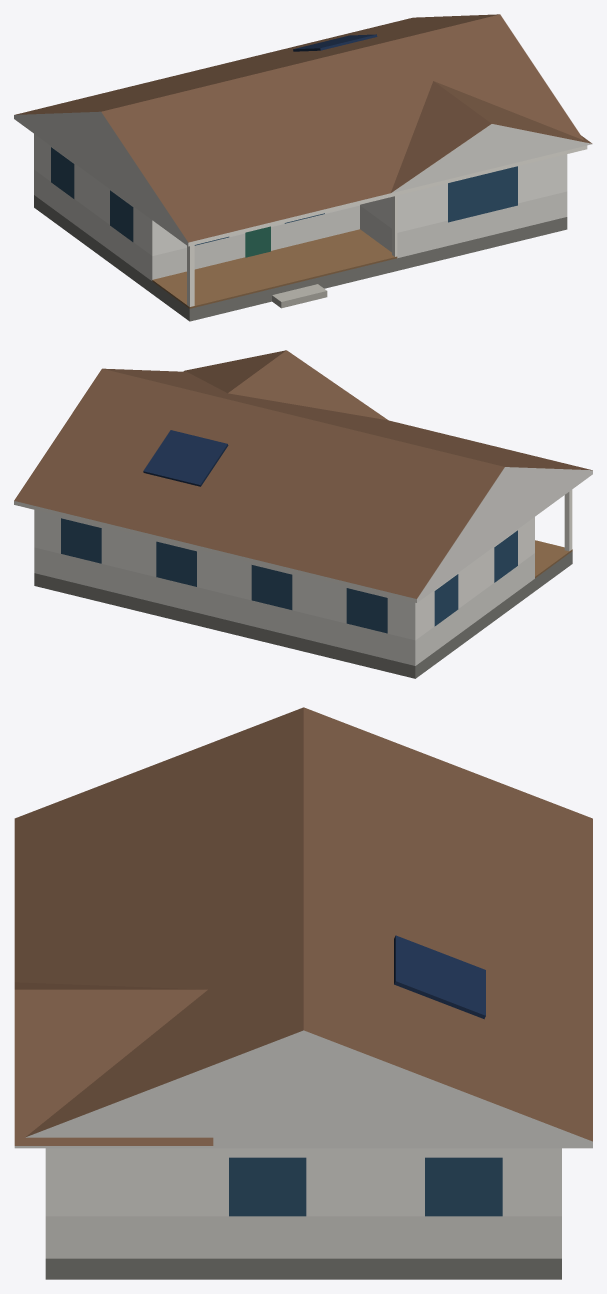
The model's file is house_14x10_lod1.glb.
The picture shows the model from 3 angles, top to bottom: view 1: azimuth 30°, elevation 25°; view 2: azimuth 150°, elevation 25°; view 3: azimuth 270°, elevation 25°; orthographic projection. The views are drawn at different scales.
Parts seen in each view (by area): view 1: house; view 2: house; view 3: house.
Part boxes in pixels (x1,y1,x2,y2): house: (14,14,592,321); house: (14,350,592,678); house: (14,707,592,1279).
Size of the model in its own units: 15 by 5.51 by 11.21.
